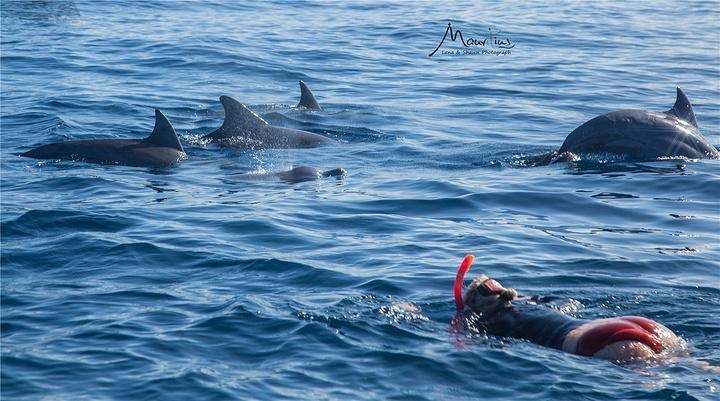fish: (530, 88, 720, 170), (15, 110, 189, 178), (195, 95, 349, 153)
person: (444, 259, 702, 367)
